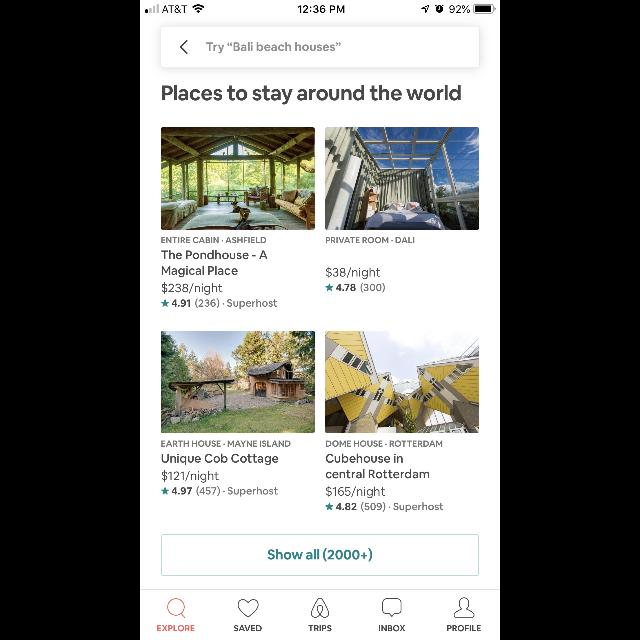icon: (382, 598, 402, 618), (454, 598, 474, 618), (168, 598, 186, 618), (238, 599, 258, 617), (180, 40, 188, 54), (326, 504, 334, 511), (326, 284, 334, 290), (161, 300, 169, 306), (161, 488, 169, 494)
image: (161, 331, 315, 433), (325, 331, 479, 433), (161, 128, 315, 230), (326, 128, 478, 230), (311, 598, 329, 618)
input: (160, 26, 480, 68)
text: (162, 85, 460, 105), (162, 250, 268, 278), (326, 454, 430, 478), (206, 42, 340, 54), (162, 453, 278, 465), (336, 502, 444, 512), (172, 486, 278, 496), (172, 299, 276, 309), (162, 282, 222, 296), (162, 441, 290, 447), (326, 266, 380, 280), (326, 486, 386, 498), (326, 441, 442, 447), (162, 470, 218, 482), (162, 237, 266, 243), (326, 237, 414, 243), (336, 283, 386, 293), (158, 625, 195, 631), (379, 624, 405, 632), (448, 625, 480, 631), (234, 625, 262, 631), (308, 625, 332, 631)
textbutton: (161, 534, 479, 576)
uppertaskbar: (140, 0, 500, 14)
